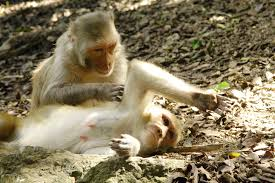monkey: (12, 8, 209, 93), (0, 106, 222, 163)
